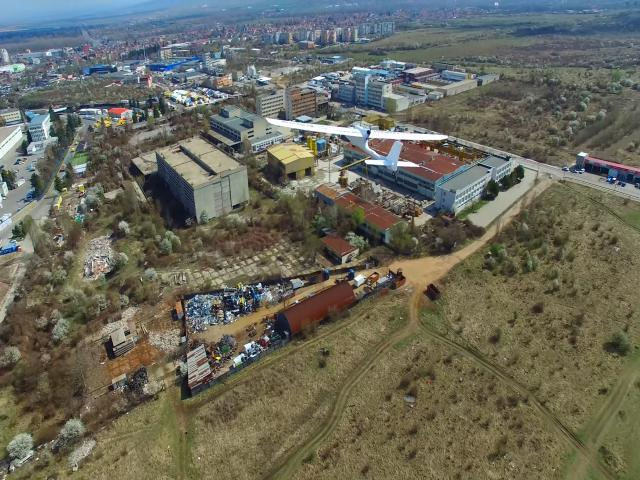plane: (264, 116, 450, 173)
